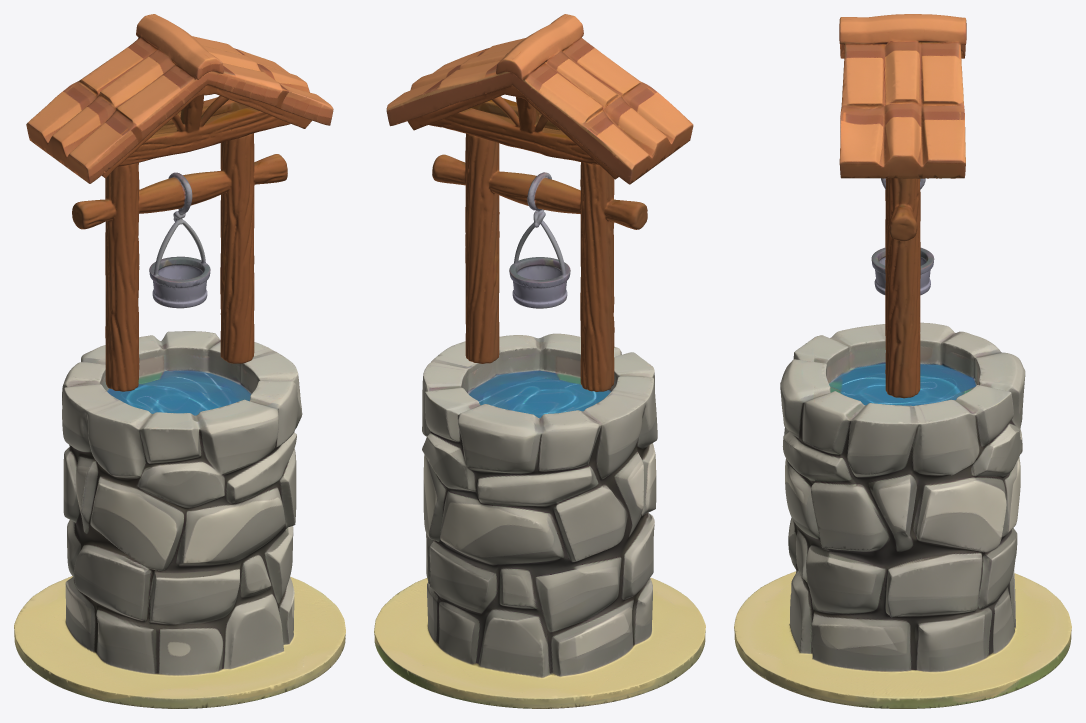
Rendered from Model_Well.glb.
3 renders of one model, left to right at view 1: azimuth 30°, elevation 25°; view 2: azimuth 150°, elevation 25°; view 3: azimuth 270°, elevation 25°, orthographic. The views are drawn at different scales.
Bounding box in the file's own units: 0.9388 × 1.9 × 0.9355.
Materials: 1 (1 with a texture image).
